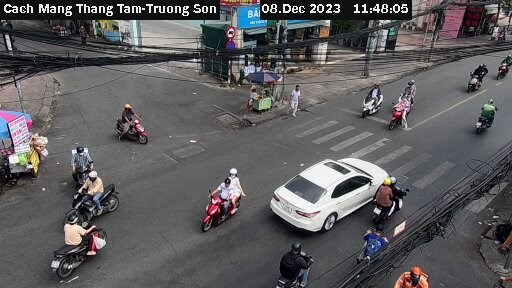car: (269, 154, 387, 233)
motorbike: (47, 219, 111, 275), (65, 179, 123, 227), (192, 179, 248, 226), (270, 240, 316, 288), (110, 104, 158, 147), (369, 177, 411, 225), (60, 147, 101, 181), (353, 228, 392, 263), (466, 97, 502, 134), (383, 91, 411, 132), (357, 82, 387, 118), (466, 55, 488, 96), (397, 79, 427, 109), (491, 52, 512, 77)
